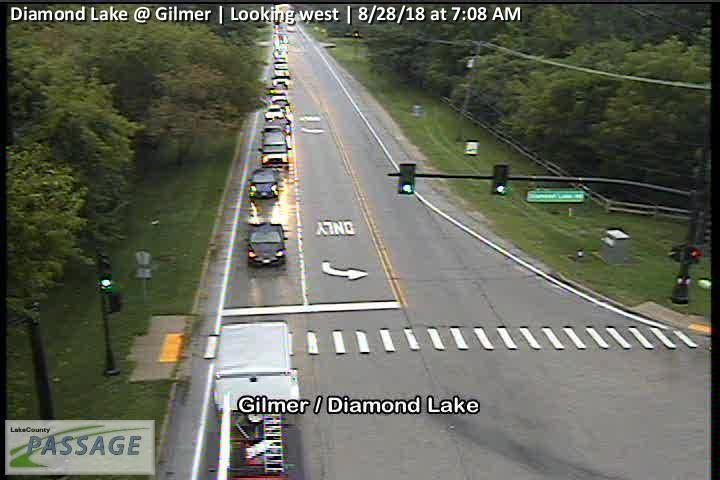SUV: (259, 131, 292, 165), (249, 167, 279, 198)
Sedan: (247, 223, 288, 265), (265, 104, 284, 119), (264, 120, 286, 132), (273, 95, 289, 107), (272, 77, 287, 88), (274, 60, 289, 70), (274, 67, 290, 76), (274, 50, 288, 60)
Truck: (213, 321, 300, 480)
